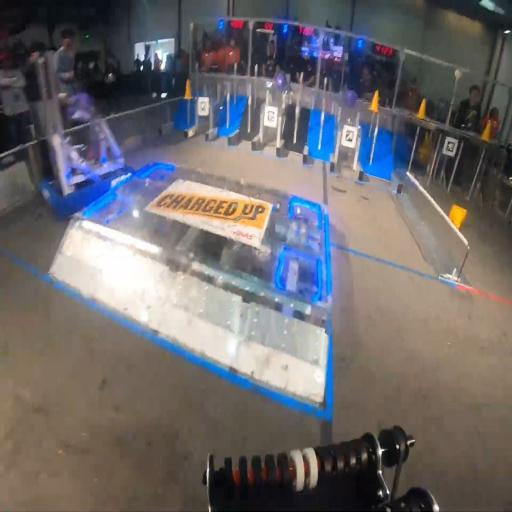robot: (34, 48, 137, 220)
